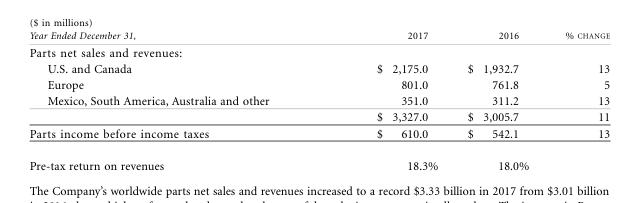table: (28, 29, 609, 171)
table column: (28, 29, 322, 171), (322, 29, 452, 171), (452, 29, 546, 171), (546, 29, 609, 171)
table column header: (28, 29, 609, 43)
table projected row header: (28, 43, 609, 60)
table row: (28, 125, 609, 149), (28, 149, 609, 171), (28, 43, 609, 60), (28, 92, 609, 109), (28, 60, 609, 76), (28, 76, 609, 92), (28, 109, 609, 125), (28, 29, 609, 43)
